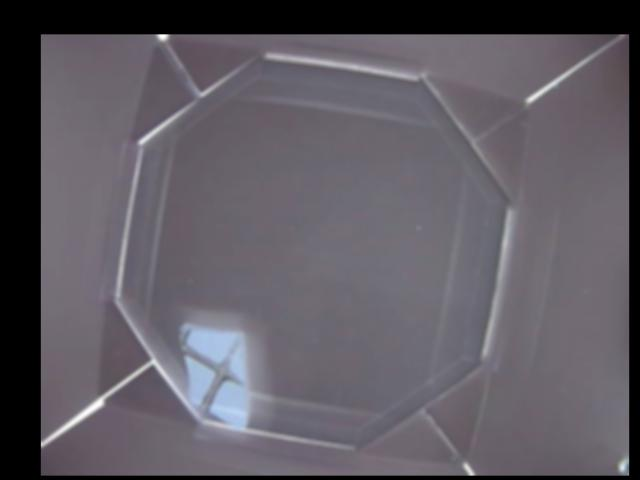China: (182, 325, 246, 429)
